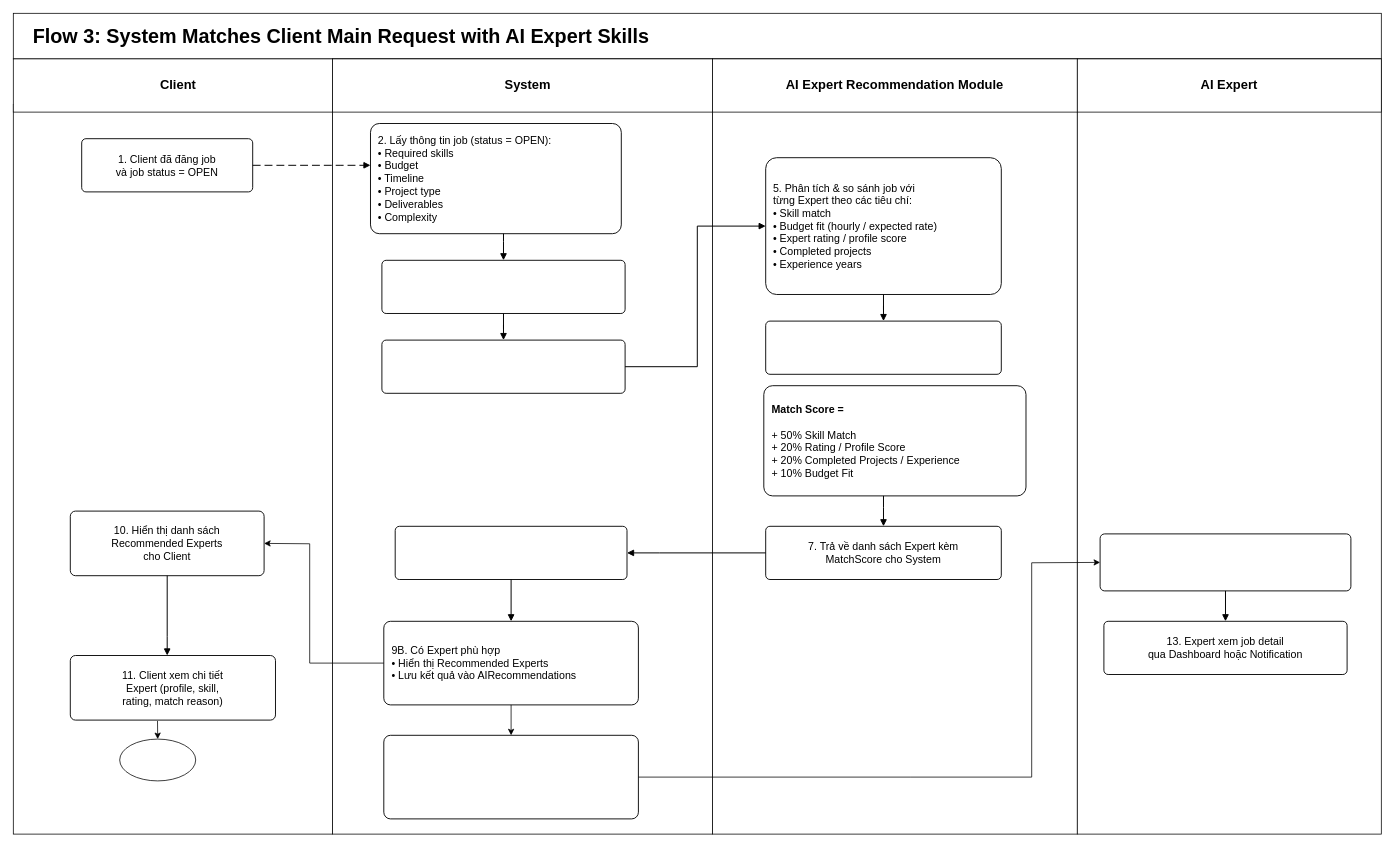
Image size: 1395x847. Some labels were removed from this diagram. The centre of each missing label's shape, as x and y in pixels:
12. Nhận Job Alert / Recommendation (matching với skill của mình): point (1225, 562)
3. Lấy danh sách Expert (status = ACTIVE & APPROVED): point (503, 286)
4. Gửi dữ liệu job + danh sách Expert sang AI Recommendation Module: point (503, 366)
6. Tính MatchScore cho từng Expert (Công thức đề xuất): point (883, 347)
8. Sắp xếp Expert theo MatchScore giảm dần: point (510, 552)
9C. Có Expert phù hợp • Gửi Job Alert đến Expert phù hợp: point (510, 776)
End: point (157, 759)
